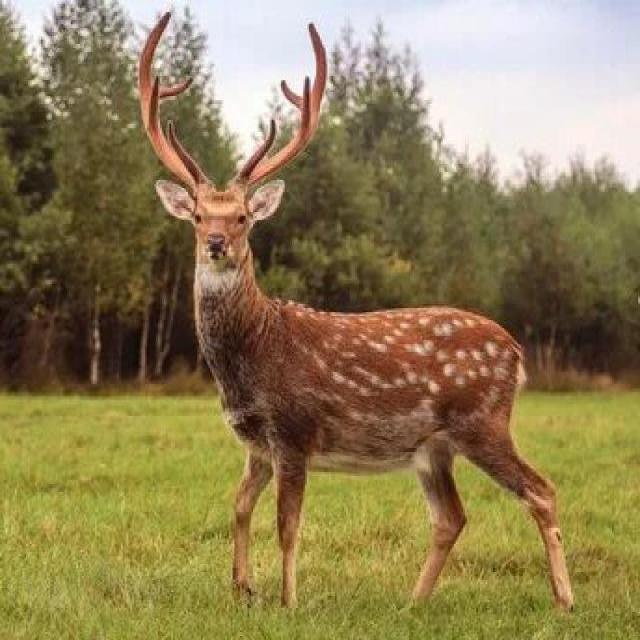deer: (126, 81, 549, 586)
